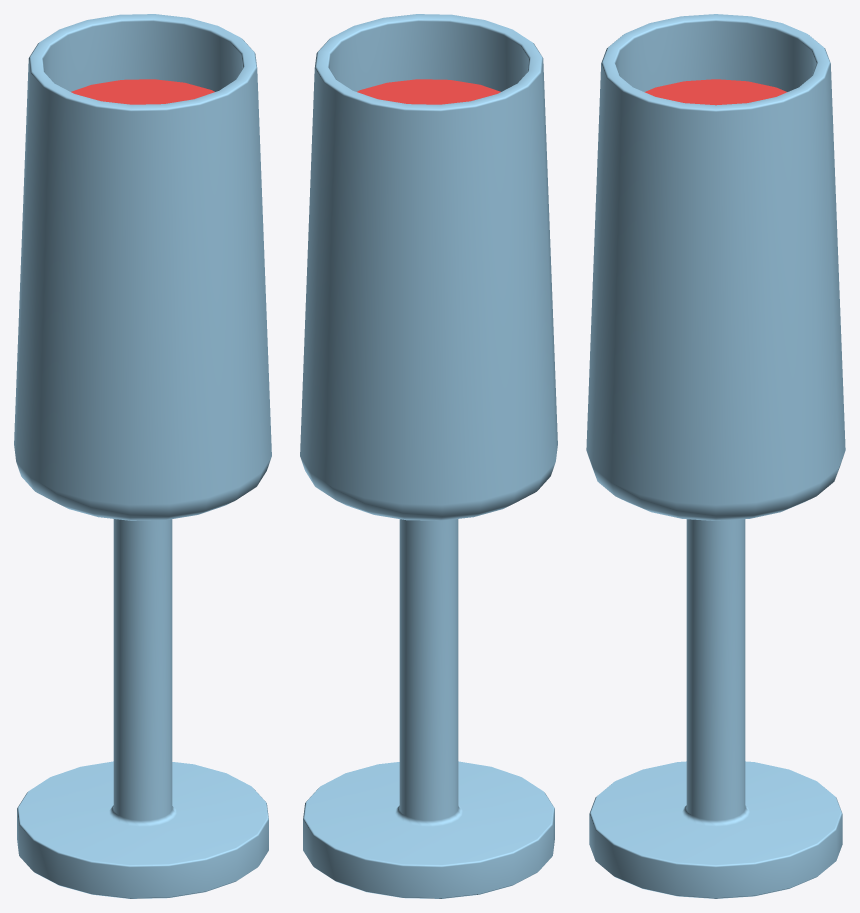
File: Store_20_Glass_of_Wine_1.glb
The picture shows the model from 3 angles, left to right: view 1: azimuth 30°, elevation 25°; view 2: azimuth 150°, elevation 25°; view 3: azimuth 270°, elevation 25°; orthographic projection.
Parts seen in each view (by area): view 1: Store_20_Glass_of_Wine_1; view 2: Store_20_Glass_of_Wine_1; view 3: Store_20_Glass_of_Wine_1.
Boxes of the visible parts, x1,y1,x2,y2 form: Store_20_Glass_of_Wine_1: (14,14,271,898); Store_20_Glass_of_Wine_1: (300,14,557,898); Store_20_Glass_of_Wine_1: (586,14,845,898).
Size of the model in its own units: 0.0951 by 0.3177 by 0.0951.
Materials: 1 (1 with a texture image).
